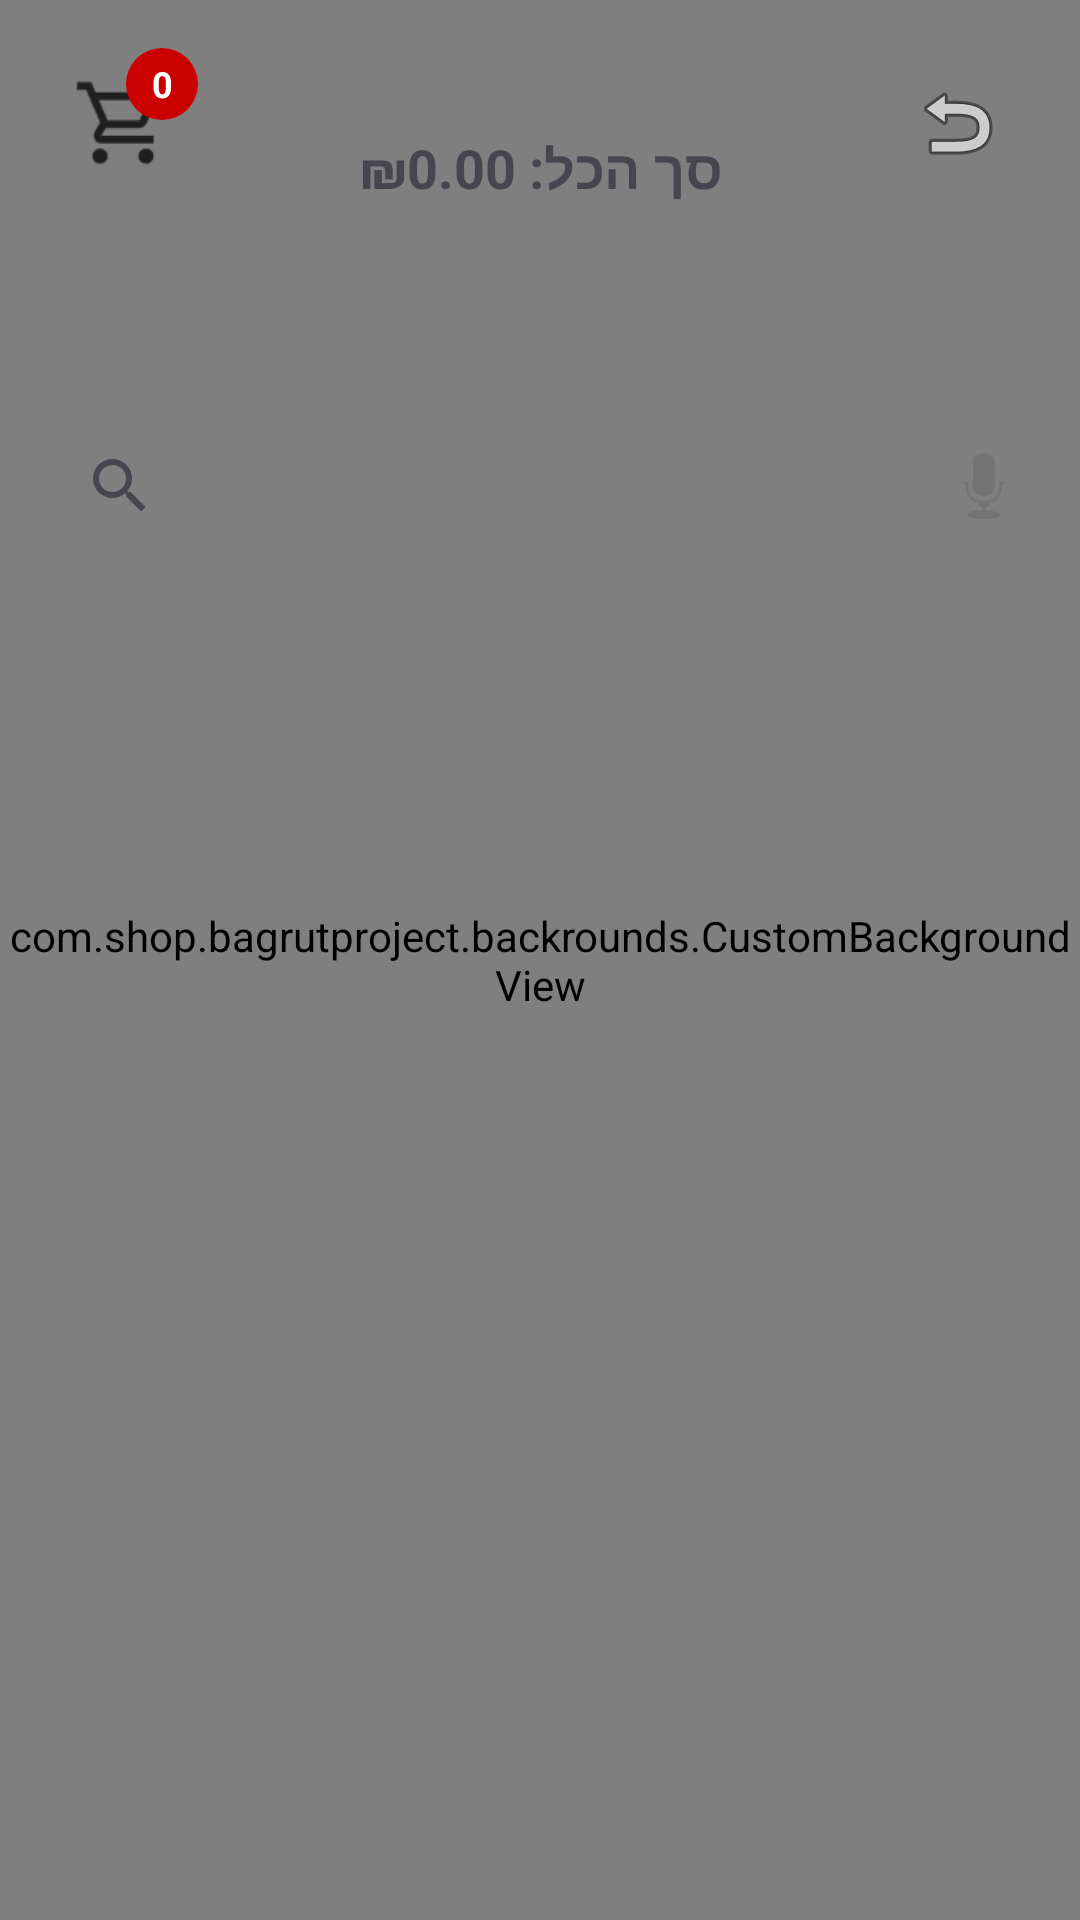

Icons on this 1080px×1920px Android screen, each with the point to tap as [x,y]:
Cart Icon: [137,106]
